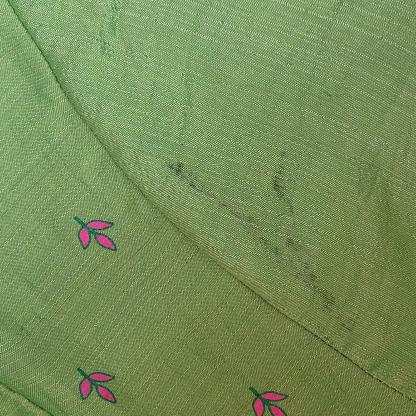spot: (168, 162, 199, 183), (235, 212, 259, 236), (314, 286, 336, 310), (256, 235, 280, 255), (219, 199, 241, 219), (269, 177, 288, 198), (192, 186, 220, 200), (300, 258, 317, 280), (164, 160, 186, 174), (344, 317, 364, 332), (281, 201, 295, 219), (186, 182, 206, 194), (318, 289, 332, 306), (282, 236, 298, 248), (318, 331, 334, 342), (278, 148, 288, 162)
